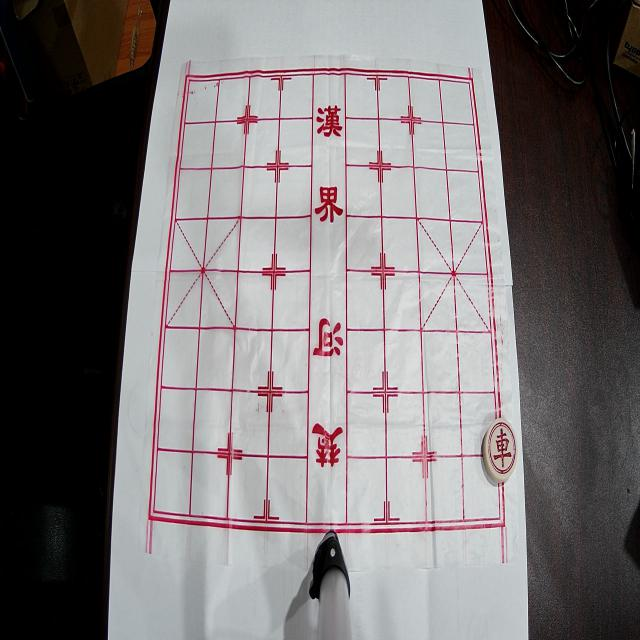red-chariot: (482, 418, 518, 482)
